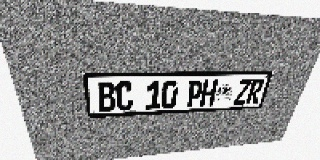0: (161, 80, 178, 109)
1: (145, 81, 162, 110)
B: (96, 82, 116, 112)
C: (115, 81, 133, 111)
H: (199, 80, 218, 107)
P: (185, 80, 204, 107)
R: (245, 79, 265, 104)
Z: (233, 79, 253, 105)
